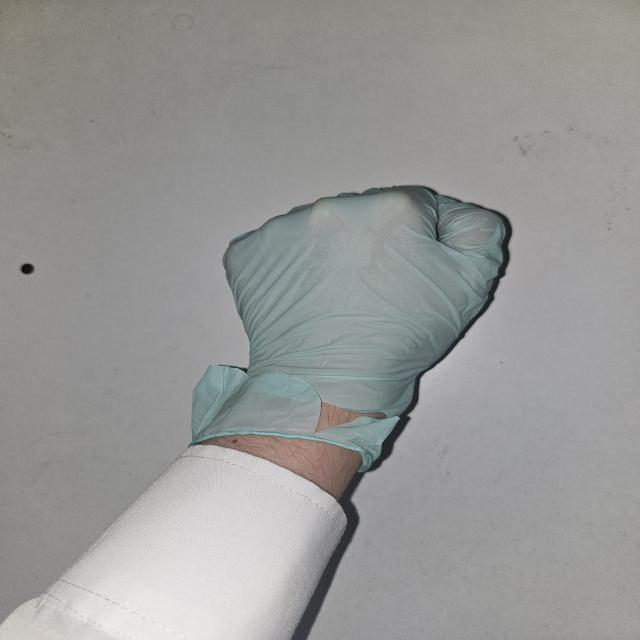gloves_damaged: (188, 184, 516, 474)
